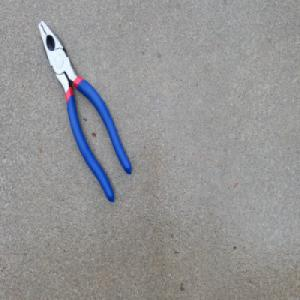Pliers: (37, 19, 132, 204)
